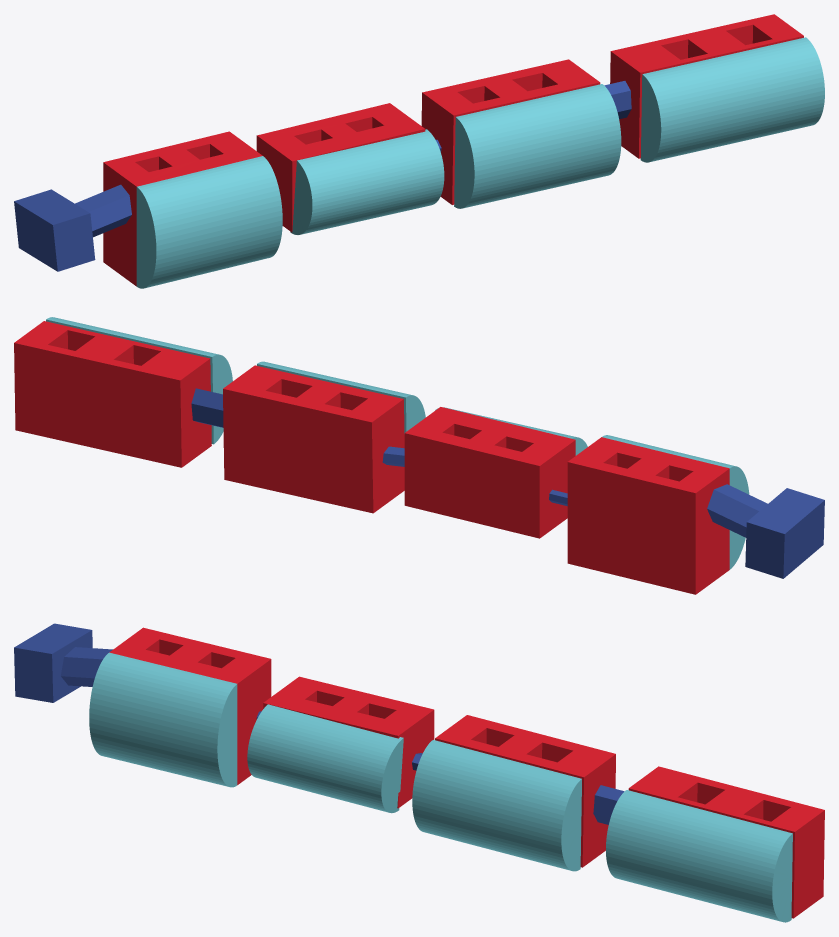
File: tinker.obj
3 renders of one model, top to bottom at view 1: azimuth 30°, elevation 25°; view 2: azimuth 150°, elevation 25°; view 3: azimuth 330°, elevation 25°, orthographic.
Visible parts, largest first — view 1: group_0_7720667, group_0_15277357, group_0_3888547; view 2: group_0_15277357, group_0_3888547, group_0_7720667; view 3: group_0_7720667, group_0_15277357, group_0_3888547.
Boxes of the visible parts, bbox=[...] form: group_0_7720667: bbox=[136, 37, 824, 288]; group_0_15277357: bbox=[103, 14, 803, 286]; group_0_3888547: bbox=[14, 81, 631, 271]; group_0_15277357: bbox=[14, 321, 729, 594]; group_0_3888547: bbox=[191, 388, 824, 578]; group_0_7720667: bbox=[46, 317, 749, 569]; group_0_7720667: bbox=[89, 652, 792, 922]; group_0_15277357: bbox=[109, 627, 824, 918]; group_0_3888547: bbox=[14, 623, 624, 824].
Size of the model in its own units: 223 by 28.4 by 27.43.
